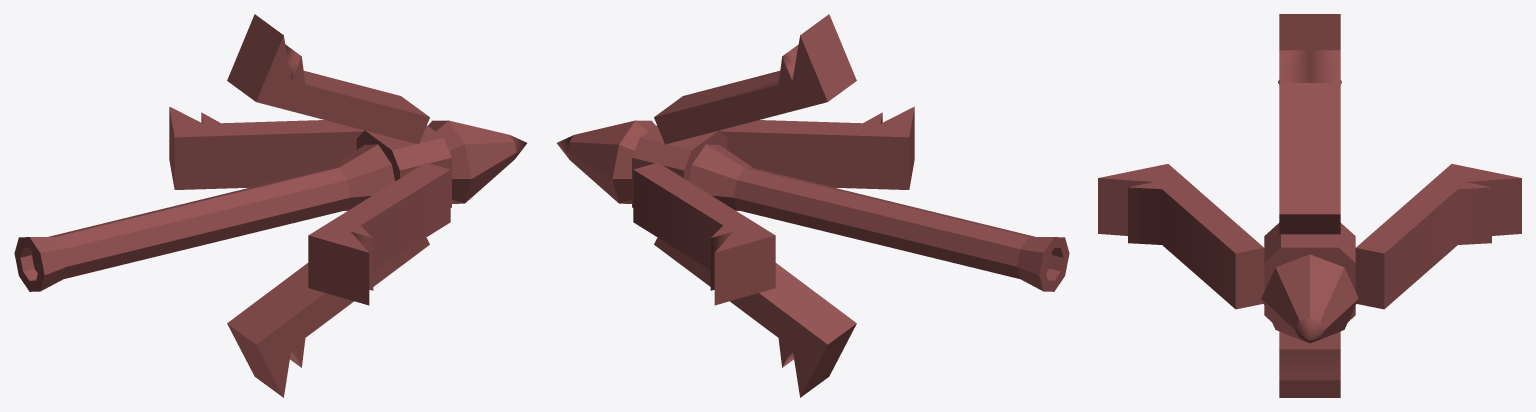
Rendered from ProtoHook.fbx.
The picture shows the model from 3 angles, left to right: view 1: azimuth 30°, elevation 25°; view 2: azimuth 150°, elevation 25°; view 3: azimuth 270°, elevation 25°; orthographic projection. The views are drawn at different scales.
Parts seen in each view (by area): view 1: Hook, GrappleArm4, GrappleArm2, GrappleArm1, GrappleArm3; view 2: Hook, GrappleArm2, GrappleArm4, GrappleArm1, GrappleArm3; view 3: GrappleArm1, GrappleArm4, GrappleArm2, Hook, GrappleArm3.
Boxes of the visible parts, x1,y1,x2,y2 form: Hook: [14, 120, 526, 291]; GrappleArm4: [169, 106, 364, 189]; GrappleArm2: [308, 162, 450, 305]; GrappleArm1: [227, 14, 429, 144]; GrappleArm3: [227, 237, 429, 397]; Hook: [557, 120, 1069, 291]; GrappleArm2: [719, 106, 914, 189]; GrappleArm4: [633, 162, 775, 305]; GrappleArm1: [654, 14, 856, 144]; GrappleArm3: [654, 237, 856, 397]; GrappleArm1: [1279, 14, 1340, 234]; GrappleArm4: [1355, 164, 1521, 309]; GrappleArm2: [1098, 164, 1264, 309]; Hook: [1261, 80, 1358, 343]; GrappleArm3: [1279, 331, 1340, 397].
Size of the model in its own units: 0.3149 by 0.2192 by 0.2192.
